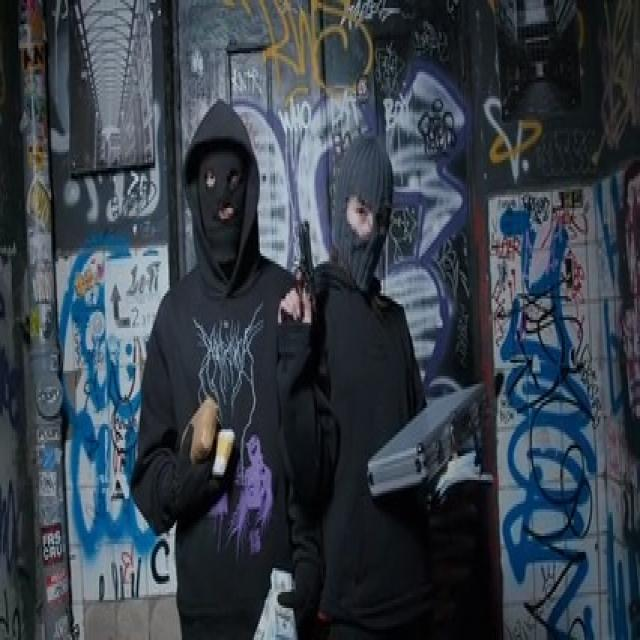Gun_Holder: (279, 220, 334, 348)
Person: (136, 92, 317, 640), (315, 130, 443, 640)
